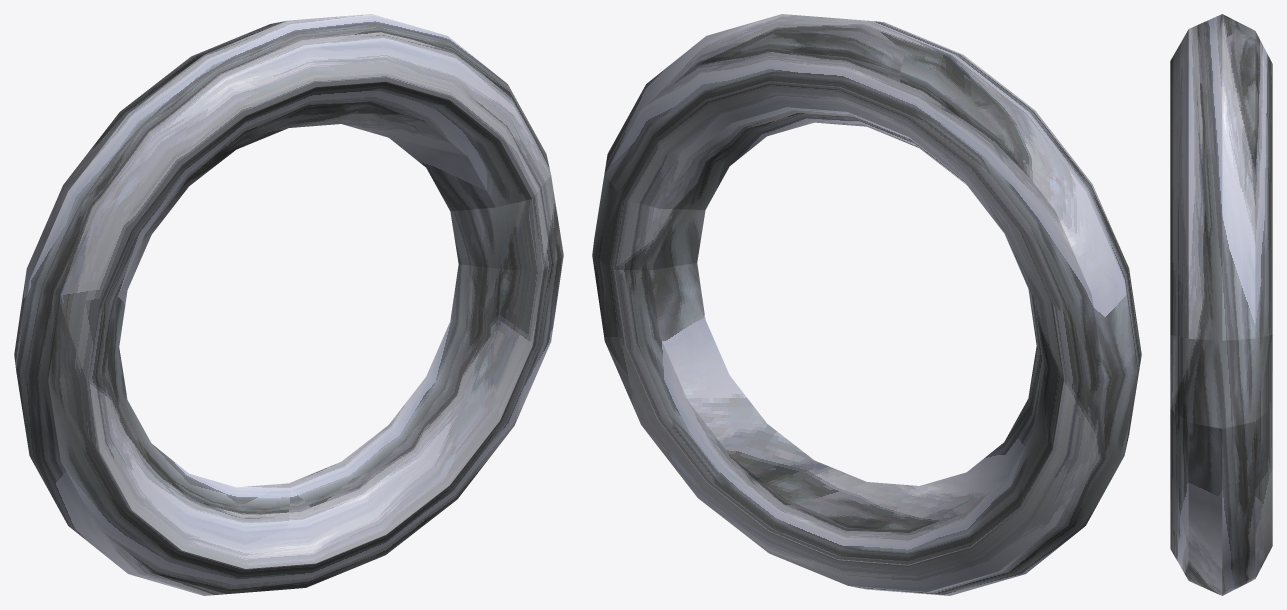
Rendered from silverRing.glb.
3 views of the same model, side by side, from view 1: azimuth 30°, elevation 25°; view 2: azimuth 150°, elevation 25°; view 3: azimuth 270°, elevation 25° (orthographic). The views are drawn at different scales.
Visible parts, largest first — view 1: Mesh_0060; view 2: Mesh_0060; view 3: Mesh_0060.
Boxes of the visible parts, x1,y1,x2,y2 form: Mesh_0060: (14,14,563,595); Mesh_0060: (592,14,1141,595); Mesh_0060: (1170,14,1272,595).
Size of the model in its own units: 4.87 by 4.87 by 0.8526.
Materials: 1 (1 with a texture image).
